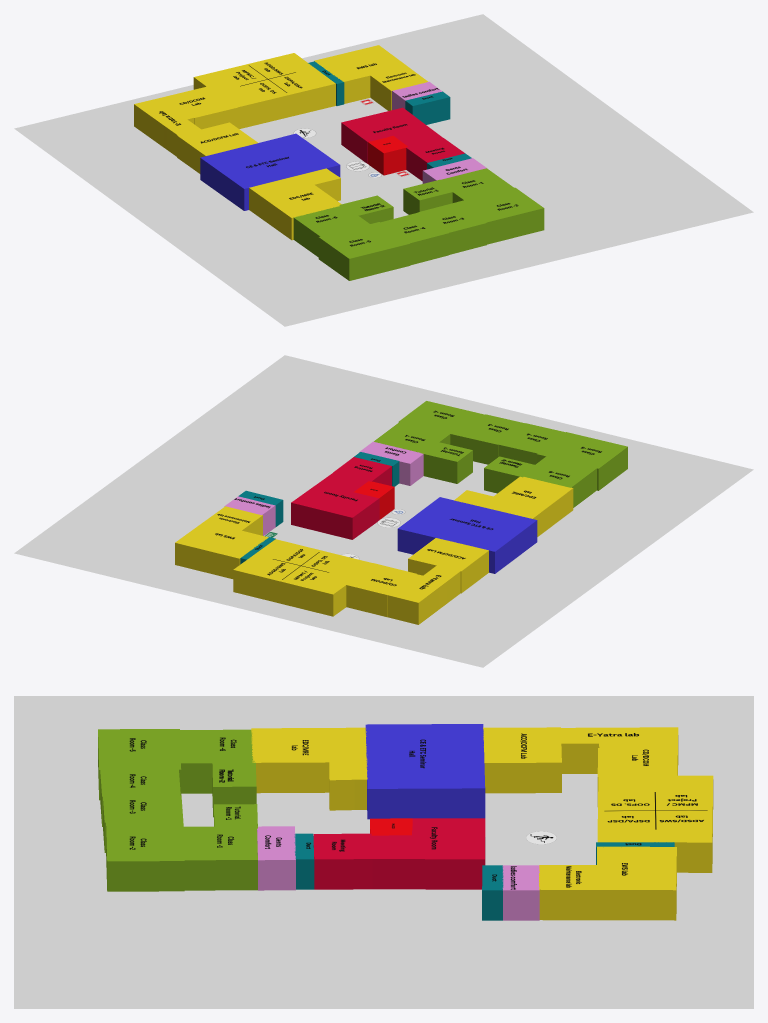
Rendered from map.glb.
3 renders of one model, top to bottom at view 1: azimuth 30°, elevation 25°; view 2: azimuth 150°, elevation 25°; view 3: azimuth 270°, elevation 25°, orthographic. The views are drawn at different scales.
Parts seen in each view (by area): view 1: Plane, Cube.005, Cube.001, Cube.020, Cube.018, Cube.022, Cube.012, Cube.007, Cube.006, Cube.002, Cube.024, Cube.019 (+11 smaller); view 2: Plane, Cube.005, Cube.001, Cube.012, Cube.018, Cube.007, Cube.006, Cube.020, Cube.002, Cube.004, Cube.019, Cube.022 (+11 smaller); view 3: Plane, Cube.001, Cube.005, Cube.018, Cube.012, Cube.007, Cube.022, Cube.002, Cube.021, Cube.019, Cube.006, Cube.020 (+14 smaller).
Boxes of the visible parts, box(x1,y1,x2,y2) form: Plane: box(14, 14, 753, 326); Cube.005: box(193, 53, 335, 128); Cube.001: box(200, 133, 340, 210); Cube.020: box(318, 222, 410, 280); Cube.018: box(249, 168, 341, 240); Cube.022: box(454, 187, 544, 244); Cube.012: box(341, 107, 442, 163); Cube.007: box(314, 45, 407, 103); Cube.006: box(134, 96, 200, 156); Cube.002: box(177, 122, 257, 173); Cube.024: box(380, 212, 448, 265); Cube.019: box(293, 205, 370, 257); Plane: box(14, 355, 753, 667); Cube.005: box(233, 539, 372, 616); Cube.001: box(397, 497, 537, 573); Cube.012: box(291, 472, 379, 539); Cube.018: box(454, 476, 573, 536); Cube.007: box(175, 521, 268, 578); Cube.006: box(387, 565, 460, 624); Cube.020: box(537, 432, 627, 490); Cube.002: box(408, 538, 488, 593); Cube.004: box(344, 563, 416, 617); Cube.019: box(524, 455, 597, 507); Cube.022: box(398, 401, 487, 446); Plane: box(14, 696, 753, 1008); Cube.001: box(365, 724, 485, 819); Cube.005: box(597, 775, 713, 872); Cube.018: box(251, 727, 367, 810); Cube.012: box(371, 818, 485, 889); Cube.007: box(596, 846, 676, 920); Cube.022: box(106, 820, 184, 891); Cube.002: box(483, 727, 561, 793); Cube.021: box(183, 826, 257, 890); Cube.019: box(176, 729, 253, 793); Cube.006: box(561, 727, 678, 773); Cube.020: box(98, 729, 181, 800).
Size of the model in its own units: 111 by 5.71 by 111.
Materials: 110 (60 with a texture image).
